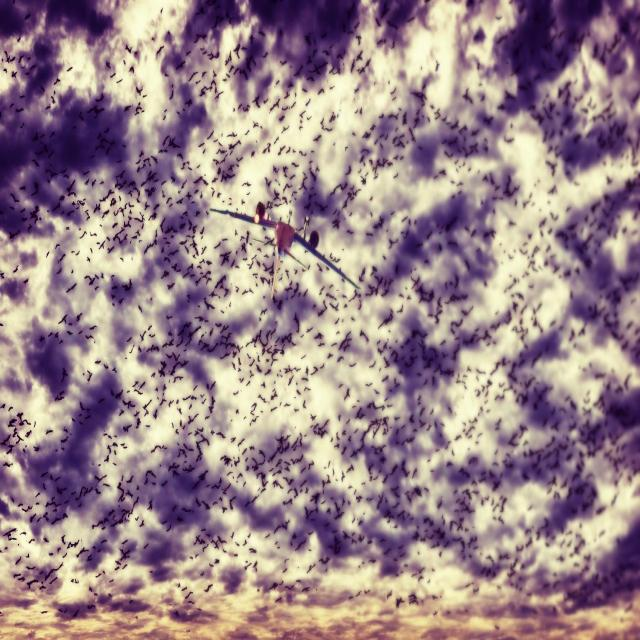airplane: (208, 200, 361, 302)
